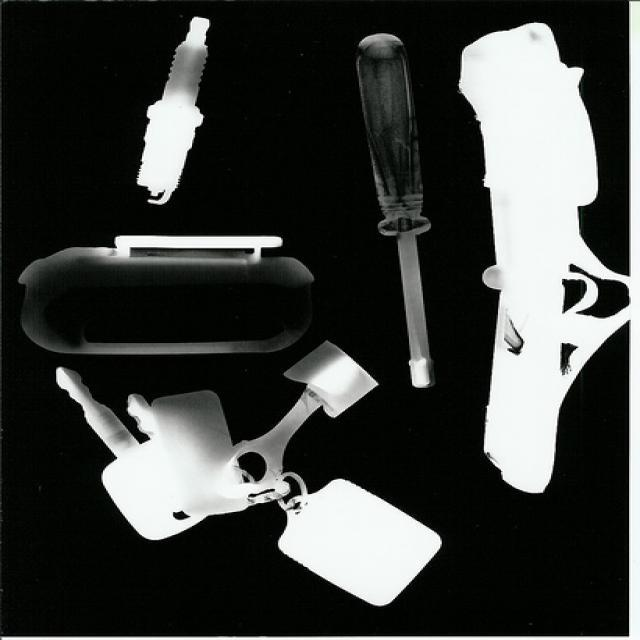screwdriver: (336, 18, 456, 404)
